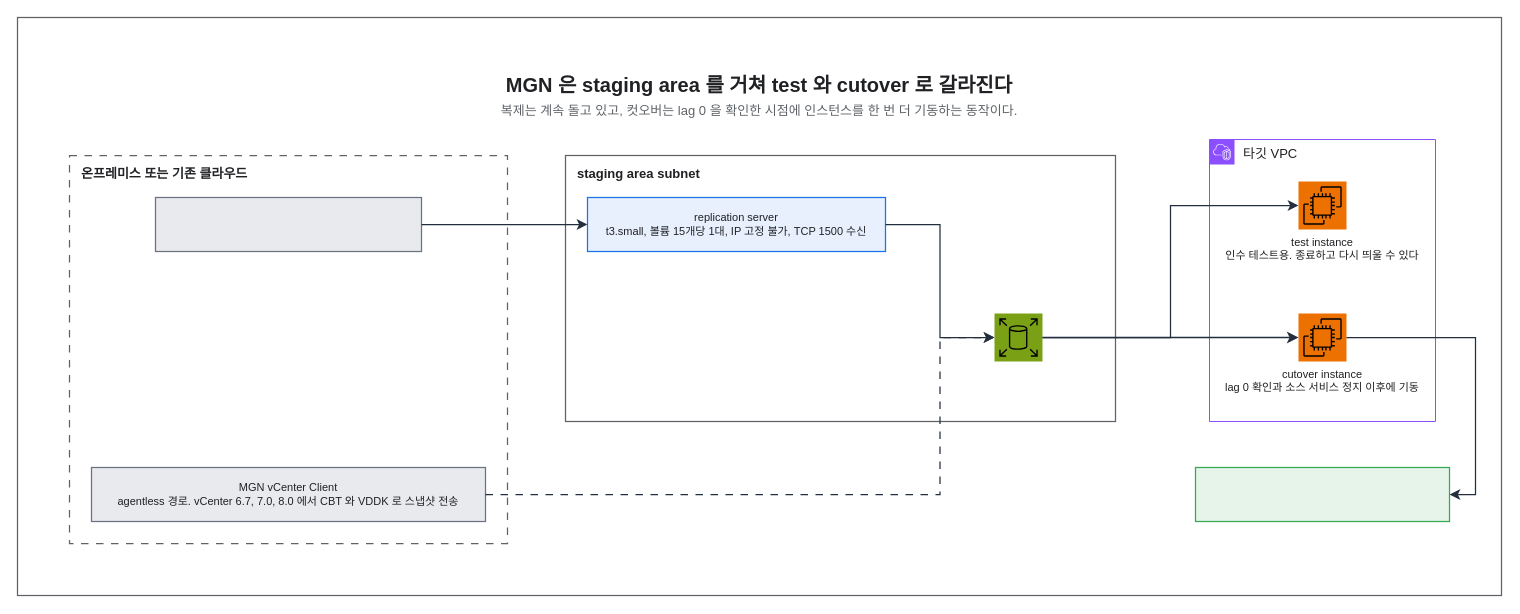
The diagram is 1520 pixels wide and 614 high, and some of its shapes have lost their labels. Here are the shapes that lost their labels. From the top down, the centre of each, then its label:
the point at 288,224: 소스 서버 물리, 가상, 클라우드. AWS Replication Agent 설치
the point at 1018,337: staging EBS 볼륨 소스 볼륨 크기; 스냅샷 5-7개 유지
the point at 1322,494: source server archive finalize cutover 이후 상태. 복제 리소스가 정리된다
